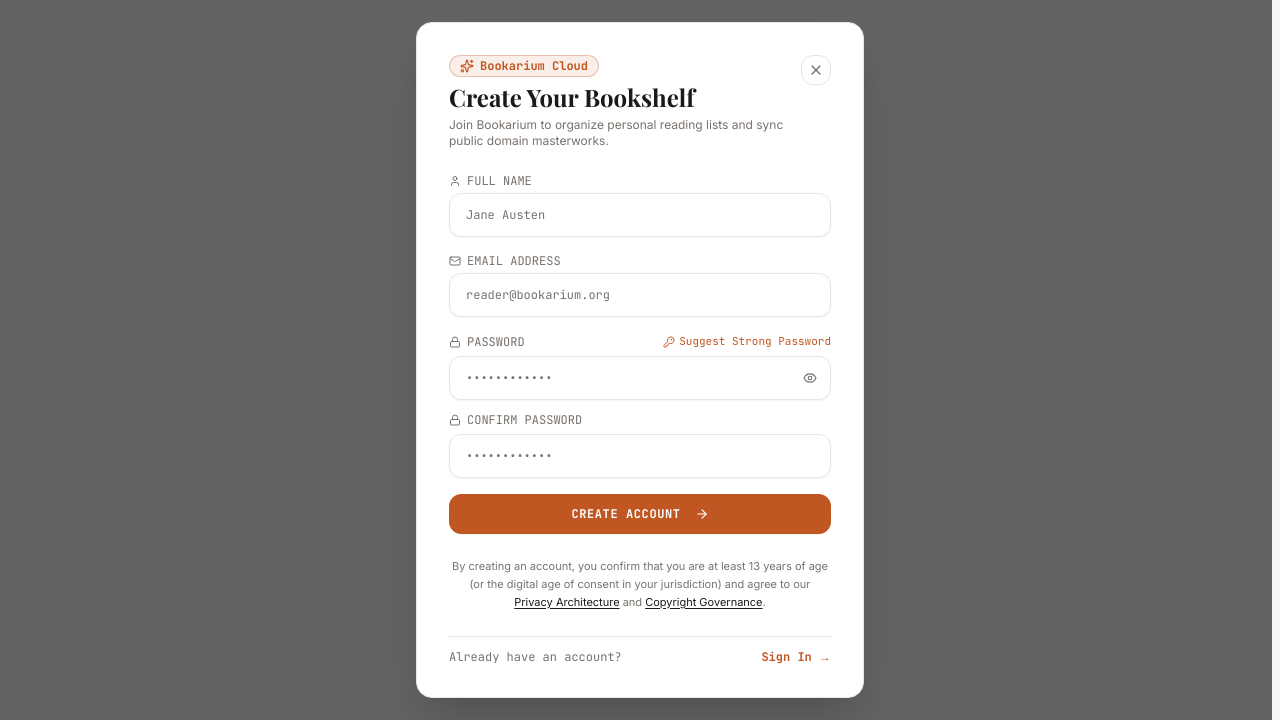
Scenario: AuthModal Component › handles Suggest Strong Password generation and visibility toggle
Click the button "Suggest Strong Password".
click(747, 342)  # box x1=663 y1=333 x2=831 y2=350
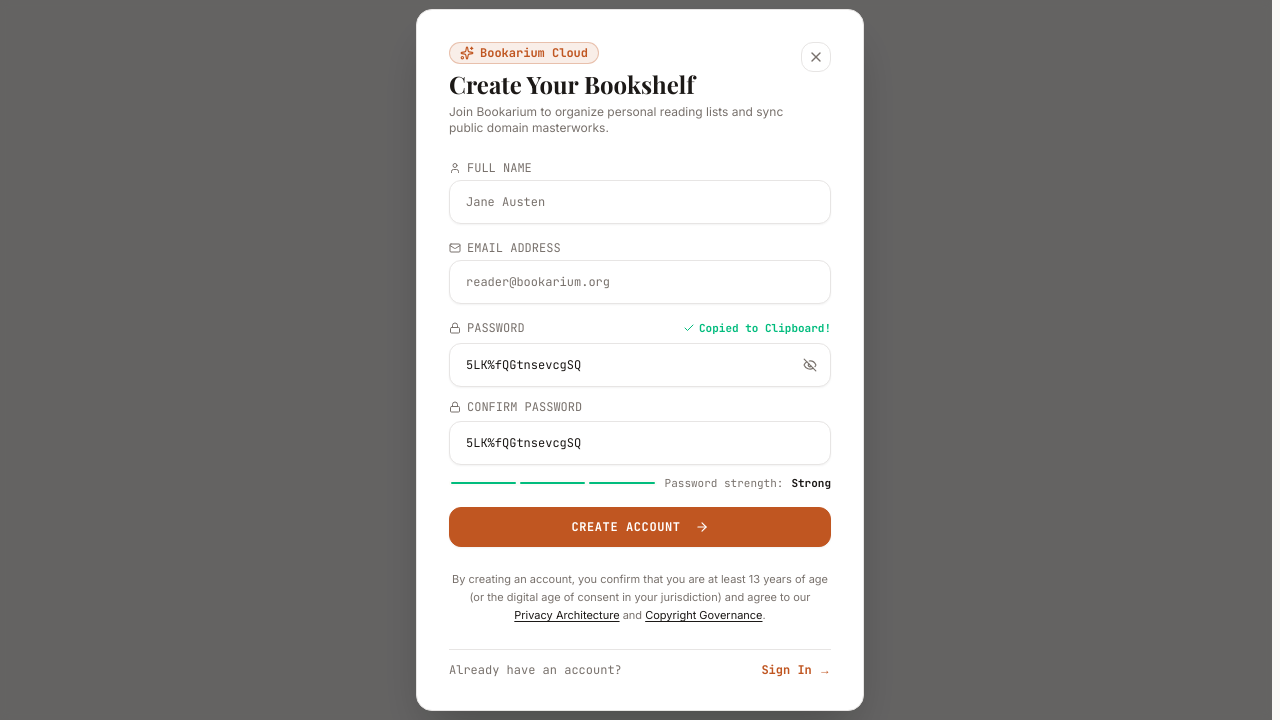
Result: the button named "Hide password" is shown
Note: Toggle back to hidden
Click the button named "Hide password".
click(810, 365)  # box x1=799 y1=354 x2=821 y2=376
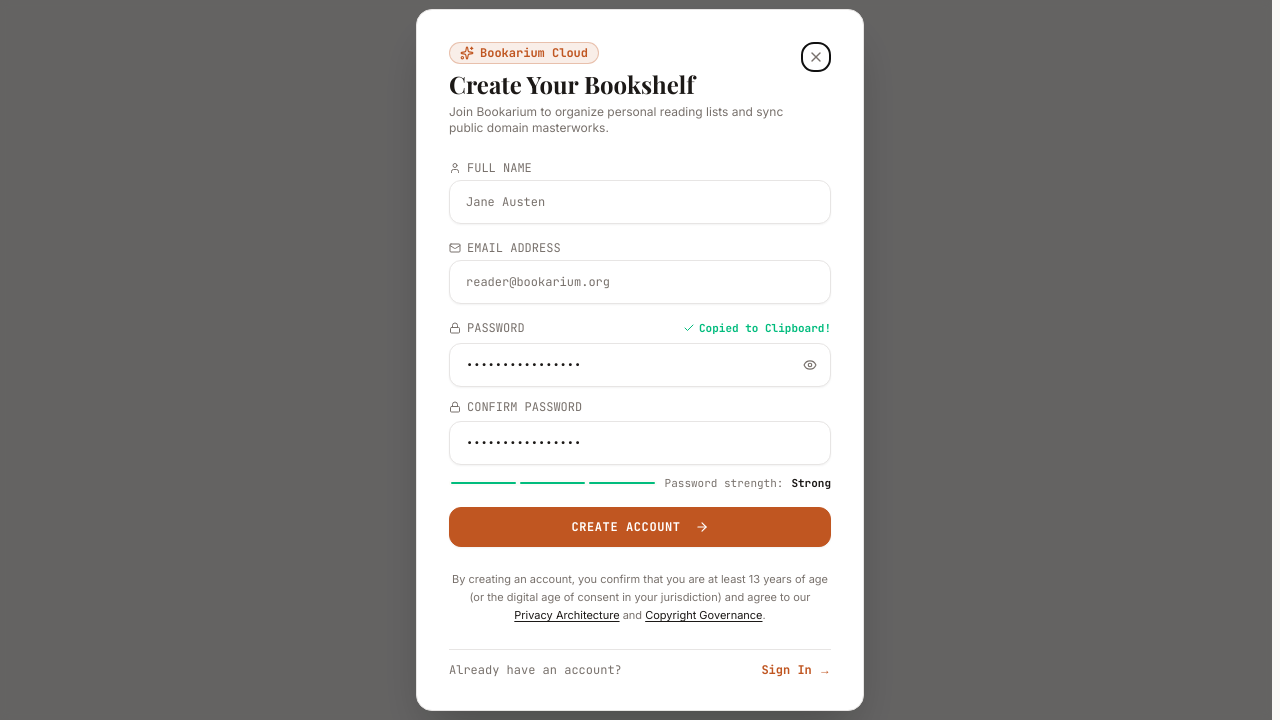
Result: the button named "Show password" is shown at x1=799 y1=354 x2=821 y2=376
